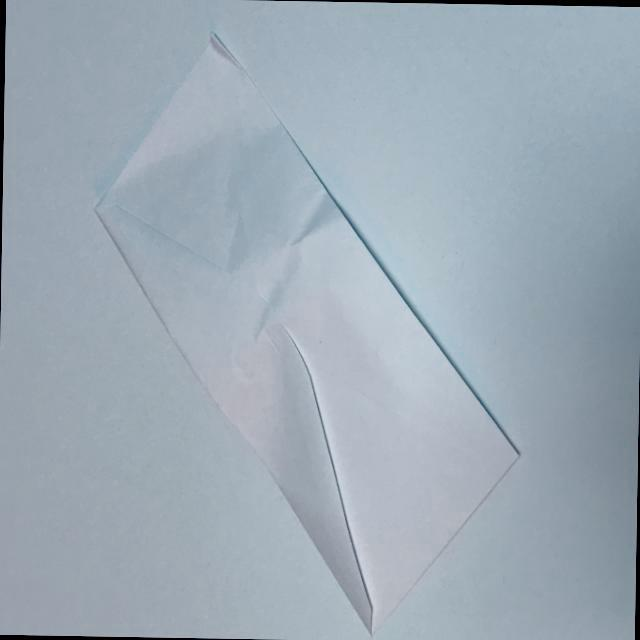paper: (87, 29, 525, 640)
